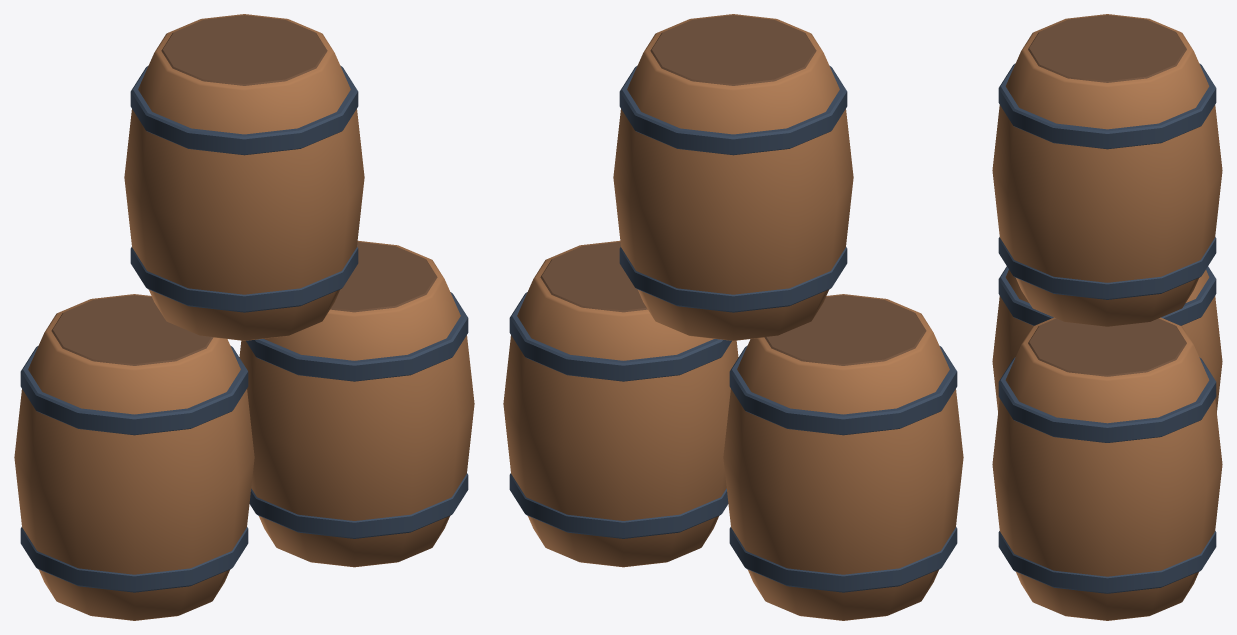
File: wood_barrel_stack_01.glb
3 views of the same model, side by side, from view 1: azimuth 30°, elevation 25°; view 2: azimuth 150°, elevation 25°; view 3: azimuth 270°, elevation 25° (orthographic). The views are drawn at different scales.
Visible parts, largest first — view 1: wood_barrel_stack_01; view 2: wood_barrel_stack_01; view 3: wood_barrel_stack_01.
Part boxes in pixels (x1=…): wood_barrel_stack_01: x1=14, y1=14, x2=474, y2=620; wood_barrel_stack_01: x1=503, y1=14, x2=963, y2=620; wood_barrel_stack_01: x1=992, y1=14, x2=1222, y2=620.
Bounding box in the file's own units: 0.973 × 1.1 × 0.473.
